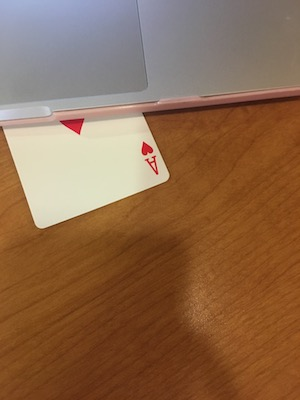AceOfHearts: (6, 109, 177, 230)
